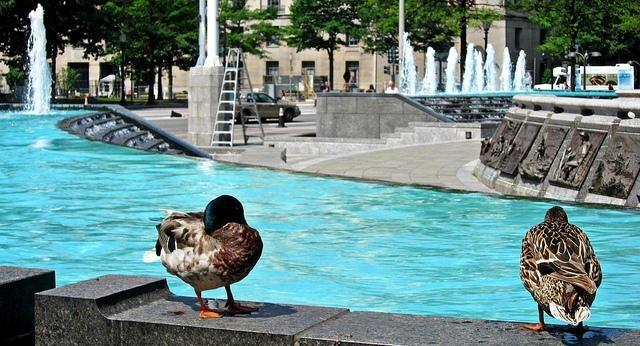car: (225, 92, 298, 126), (566, 52, 586, 61)
truck: (534, 64, 634, 90)
